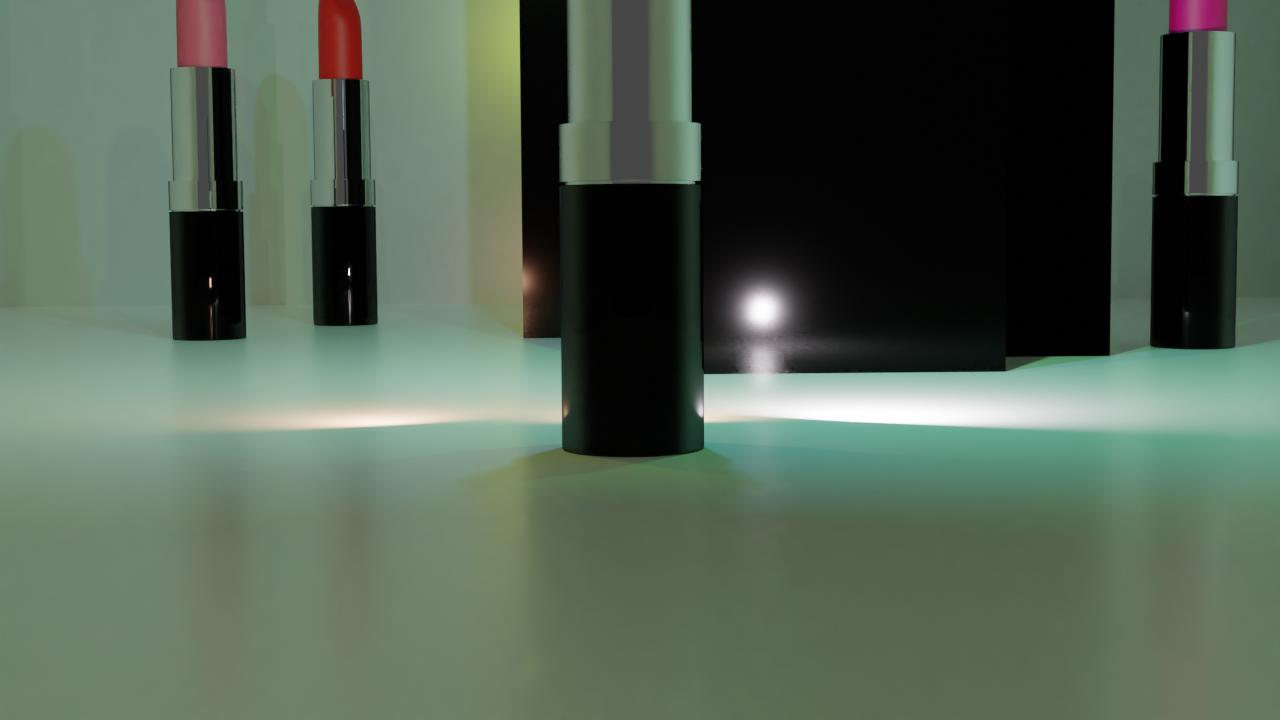CLASSIFIER_NAME: (557, 0, 706, 457), (1148, 0, 1241, 349), (166, 0, 248, 346), (309, 0, 379, 326)
